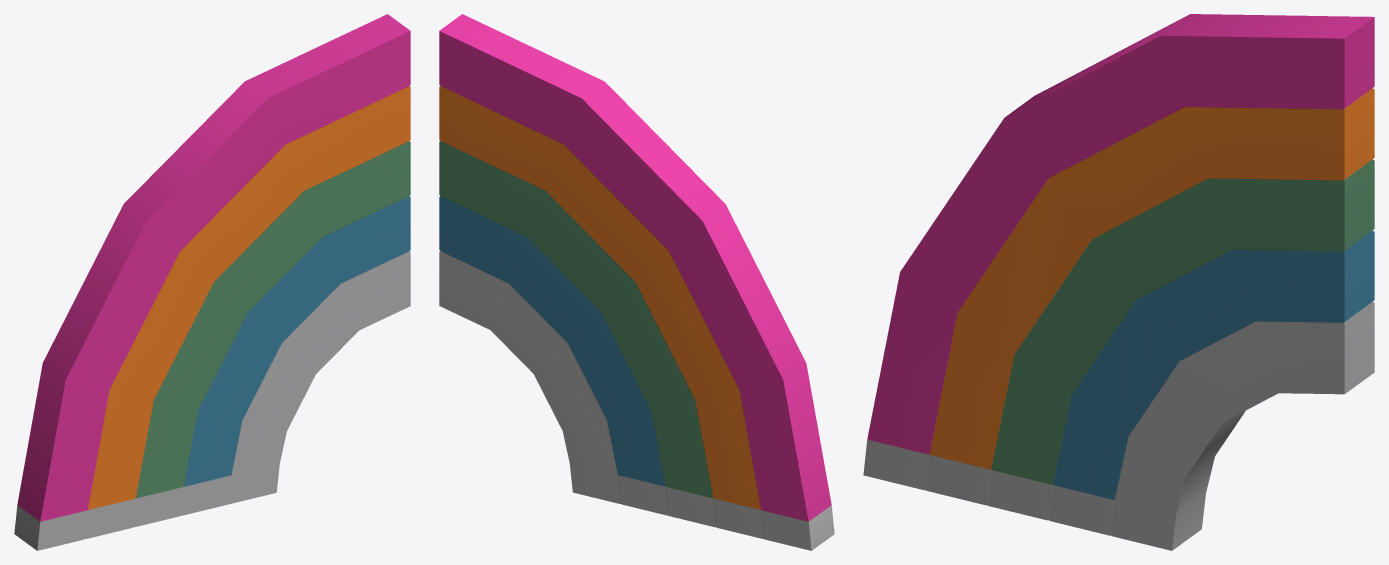
Rendered from DCR0110005.fbx.
3 views of the same model, side by side, from view 1: azimuth 30°, elevation 25°; view 2: azimuth 150°, elevation 25°; view 3: azimuth 330°, elevation 25° (orthographic). The views are drawn at different scales.
Visible parts, largest first — view 1: smDCR0110005; view 2: smDCR0110005; view 3: smDCR0110005.
Boxes of the visible parts, x1,y1,x2,y2 form: smDCR0110005: (14, 14, 410, 550); smDCR0110005: (439, 14, 834, 550); smDCR0110005: (863, 14, 1374, 550).
Size of the model in its own units: 563 by 619 by 61.09.
1 material, 1 textured.
